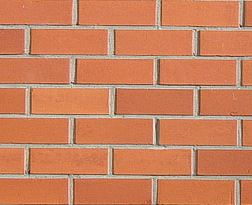brick: (27, 146, 109, 176), (157, 118, 240, 147), (74, 56, 154, 86), (158, 57, 237, 87), (112, 147, 193, 176), (114, 87, 194, 116), (28, 27, 110, 55), (73, 117, 155, 145), (112, 29, 195, 56), (31, 87, 111, 115), (155, 178, 237, 205), (73, 178, 152, 205), (1, 56, 71, 86), (1, 116, 71, 145), (160, 1, 241, 26), (77, 1, 157, 26), (1, 177, 70, 204), (1, 1, 74, 26), (197, 88, 252, 118), (196, 147, 252, 176), (198, 29, 252, 57), (1, 87, 29, 114), (1, 27, 27, 54), (1, 146, 25, 175)
